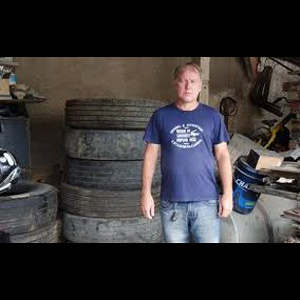tire: (59, 182, 173, 218), (60, 127, 172, 161), (61, 155, 172, 189), (64, 98, 175, 131), (61, 212, 173, 242), (1, 179, 59, 234)
